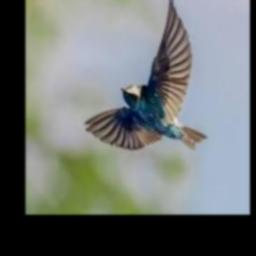Swallow: (84, 0, 208, 153)
